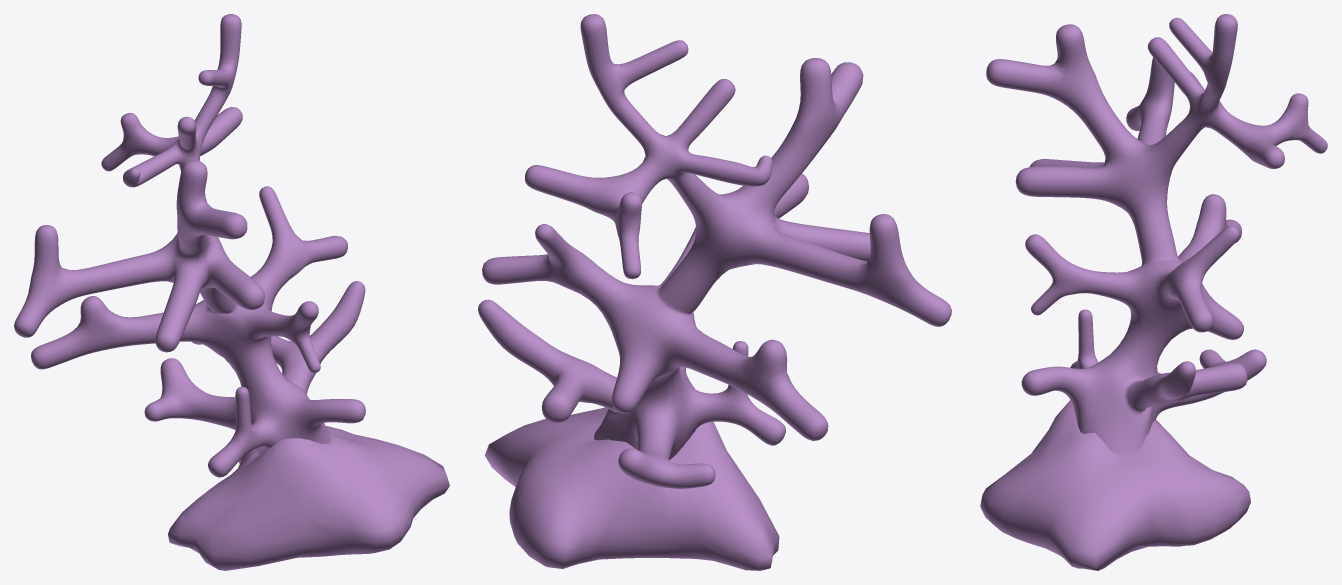
File: coralreef2.glb
The picture shows the model from 3 angles, left to right: view 1: azimuth 30°, elevation 25°; view 2: azimuth 150°, elevation 25°; view 3: azimuth 270°, elevation 25°; orthographic projection. The views are drawn at different scales.
Visible parts, largest first — view 1: Cube, Sphere; view 2: Cube, Sphere; view 3: Cube, Sphere.
Boxes of the visible parts, x1,y1,x2,y2 form: Cube: (14, 14, 365, 477); Sphere: (168, 426, 449, 570); Cube: (478, 14, 951, 488); Sphere: (485, 407, 779, 570); Cube: (986, 14, 1327, 454); Sphere: (980, 400, 1250, 570).
Size of the model in its own units: 4.87 by 5.54 by 3.41.
